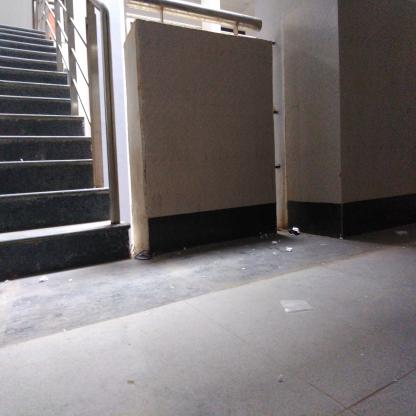stairs: (1, 42, 54, 290)
